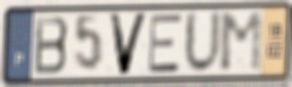5: (73, 12, 106, 77)
B: (33, 15, 71, 78)
E: (147, 12, 183, 76)
M: (218, 10, 265, 75)
U: (182, 8, 224, 77)
V: (106, 11, 151, 78)
